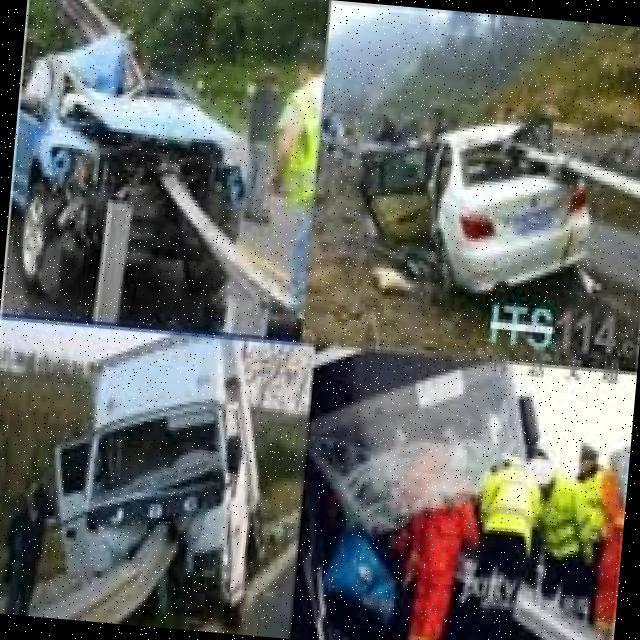accident: (294, 353, 555, 632), (345, 90, 616, 317), (26, 381, 273, 623)
